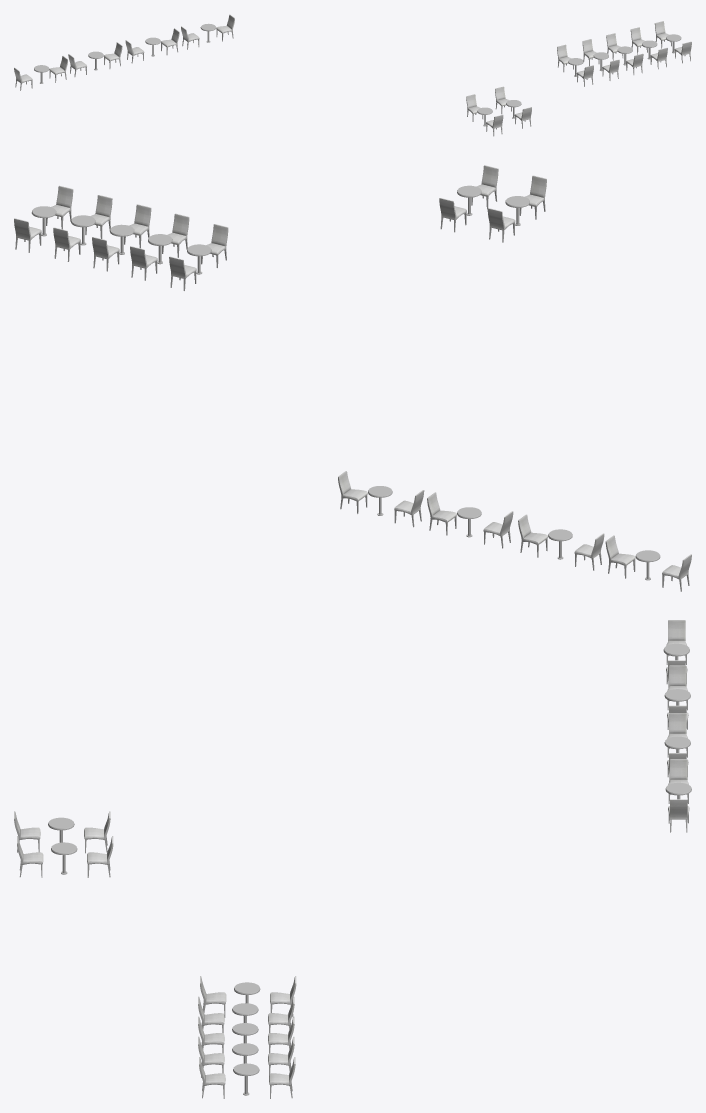
Rendered from table-2people.fbx.
3 views of the same model, one above another, from view 1: azimuth 30°, elevation 25°; view 2: azimuth 150°, elevation 25°; view 3: azimuth 270°, elevation 25° (orthographic). The views are drawn at different scales.
Visible parts, largest first — view 1: table5:chair2Table1, table2:chair2Table1, table1:chair2Table1, table11:chair2Table3, table6:chair2Table1, table:chair2Table1, table9:chair2Table3, table12:chair2Table3, table4:chair2Table1, table10:chair2Table3, table3:chair2Table1; view 2: no part large enough to name; view 3: no part large enough to name.
Boxes of the visible parts, box(x1,y1,x2,y2) form: table5:chair2Table1: box(466, 94, 483, 121); table2:chair2Table1: box(606, 33, 623, 60); table1:chair2Table1: box(582, 39, 599, 65); table11:chair2Table3: box(161, 28, 179, 55); table6:chair2Table1: box(495, 86, 511, 114); table:chair2Table1: box(557, 44, 573, 72); table9:chair2Table3: box(49, 56, 67, 82); table12:chair2Table3: box(216, 14, 234, 41); table4:chair2Table1: box(654, 21, 671, 48); table10:chair2Table3: box(104, 42, 122, 68); table3:chair2Table1: box(630, 27, 647, 54).
Size of the model in its own units: 5593 by 457 by 3592.
